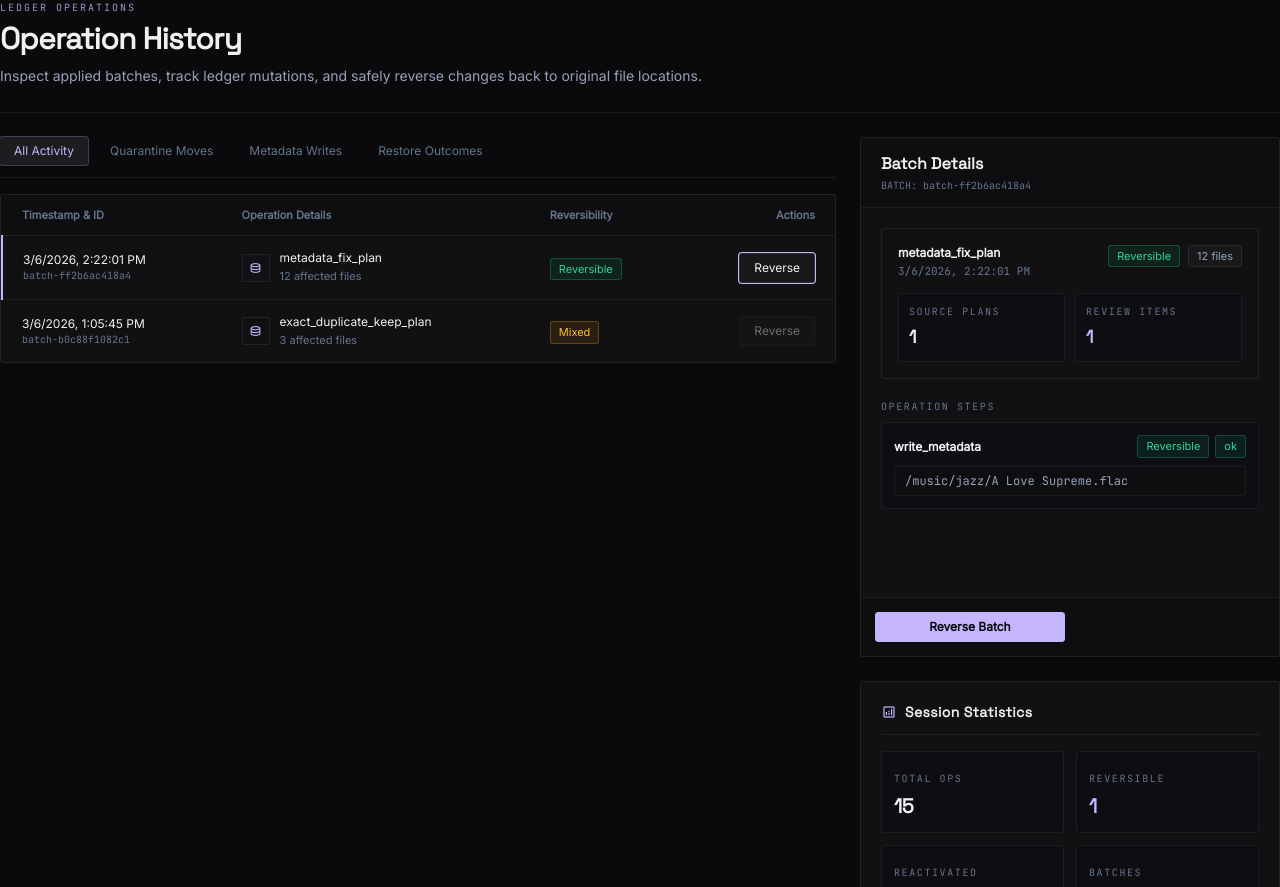
Scenario: History Page › opens reversal confirmation dialog, traps focus, and closes on cancel with focus restoration
This screenshot has width=1280, height=887.
Click the 1st button "Reverse" at (777, 268), box [739, 252, 815, 282]
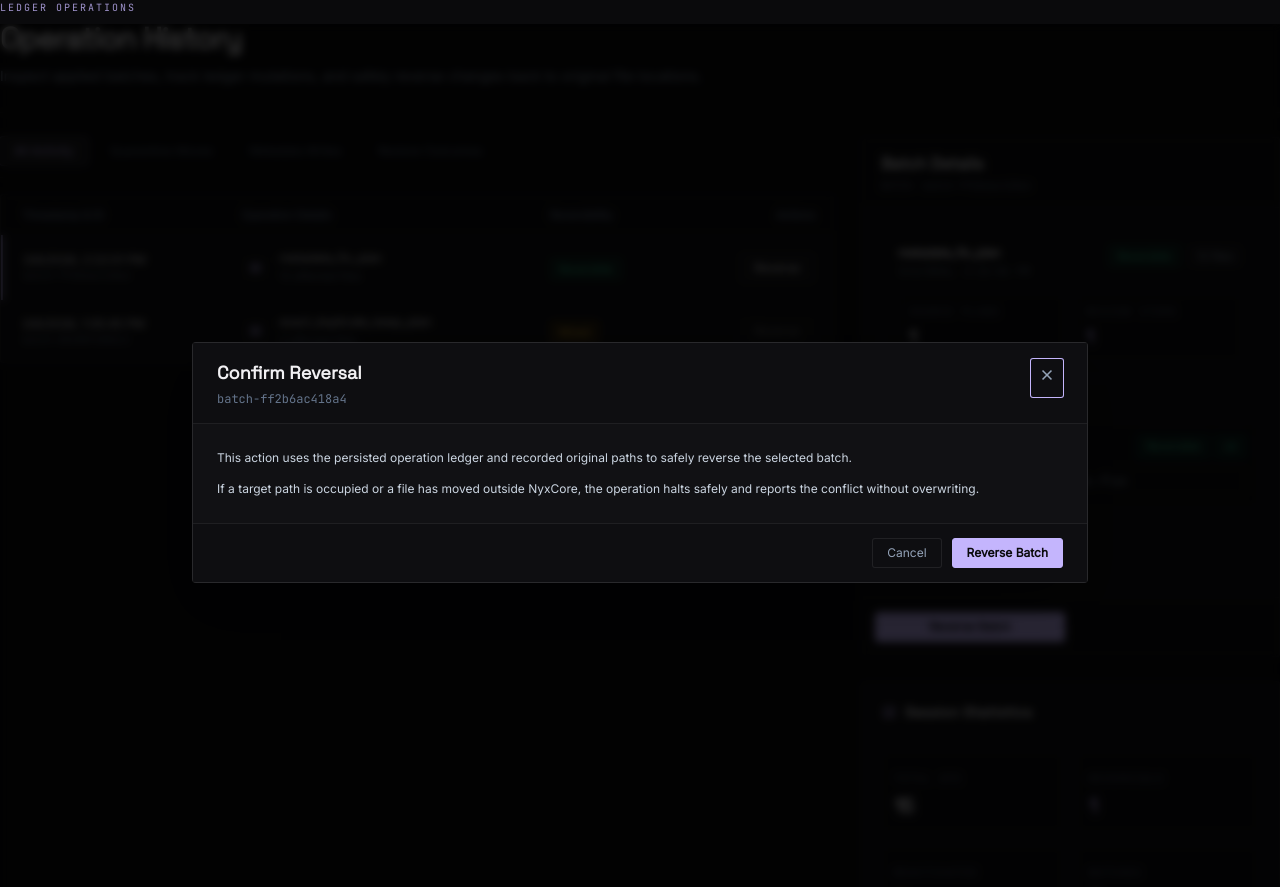
Now the dialog "Confirm Reversal" is shown, box [192, 342, 1088, 582]
Note: Cancel modal
Click the button "Cancel" at (907, 552), box [872, 538, 942, 568]
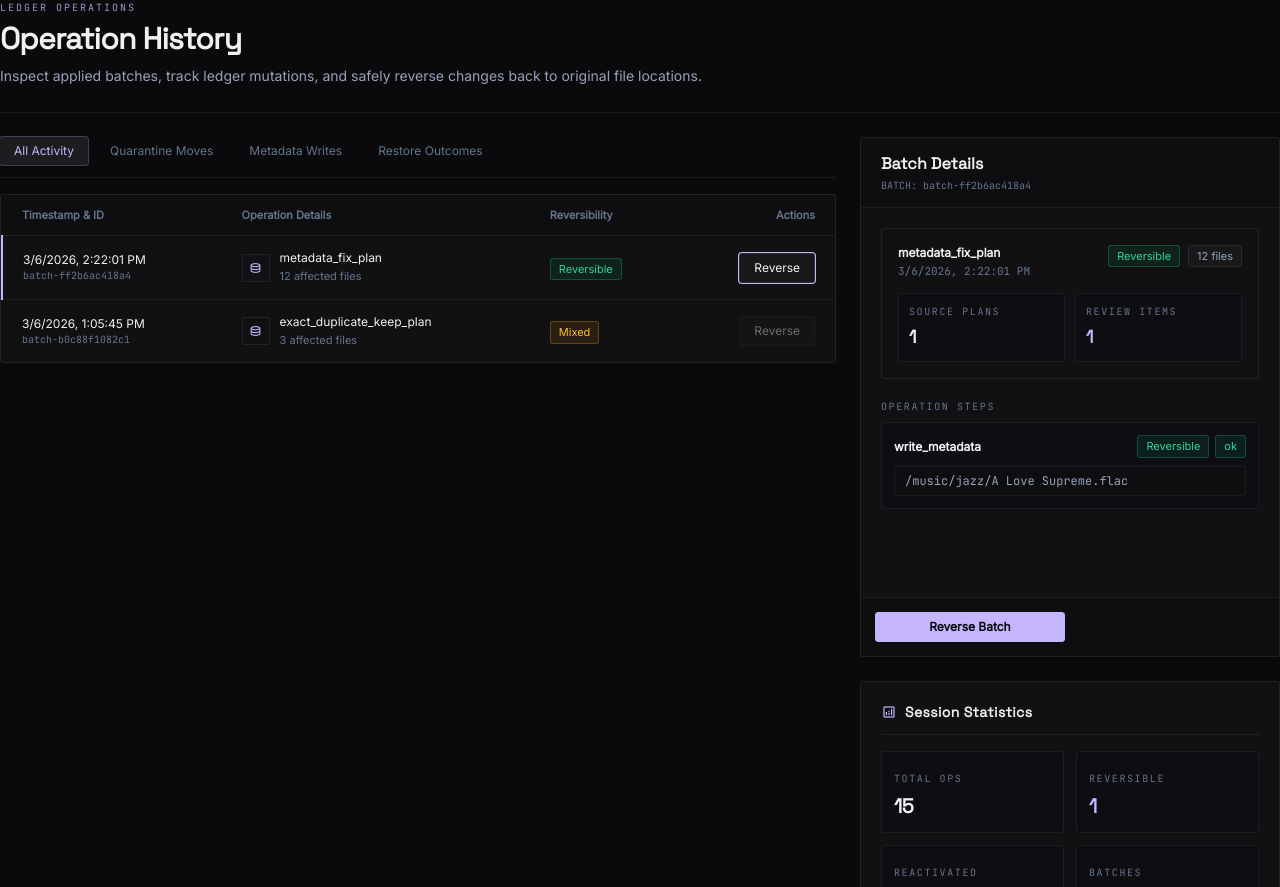
Now the heading "Confirm Reversal" is gone
